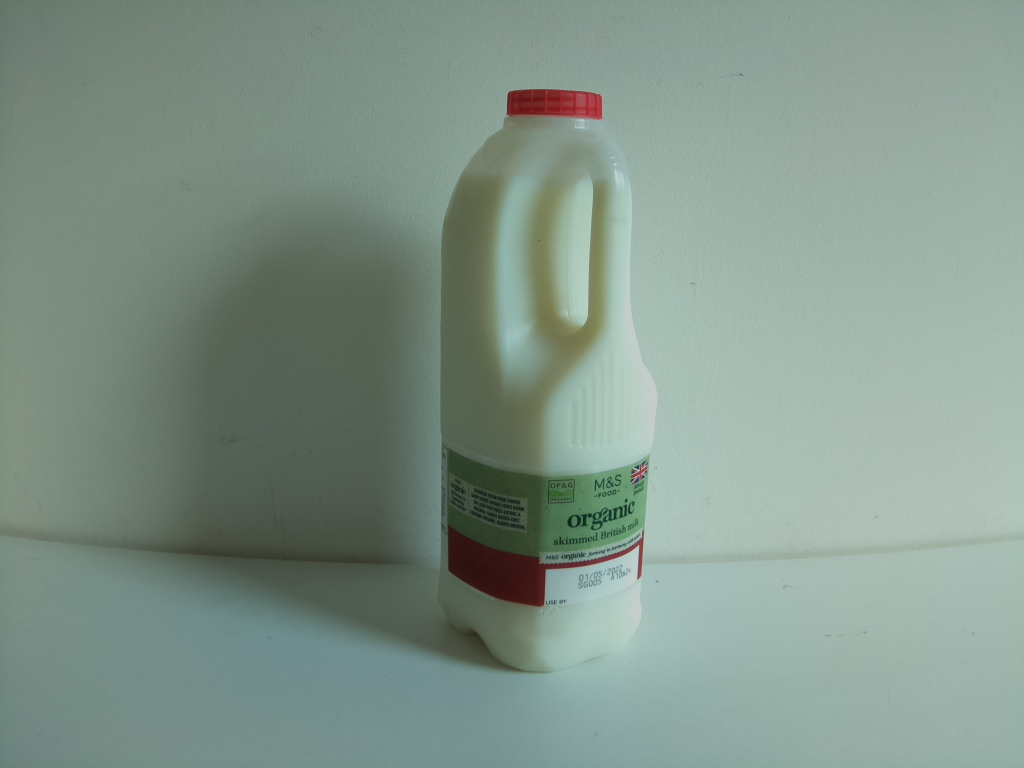milk: (429, 82, 659, 684)
